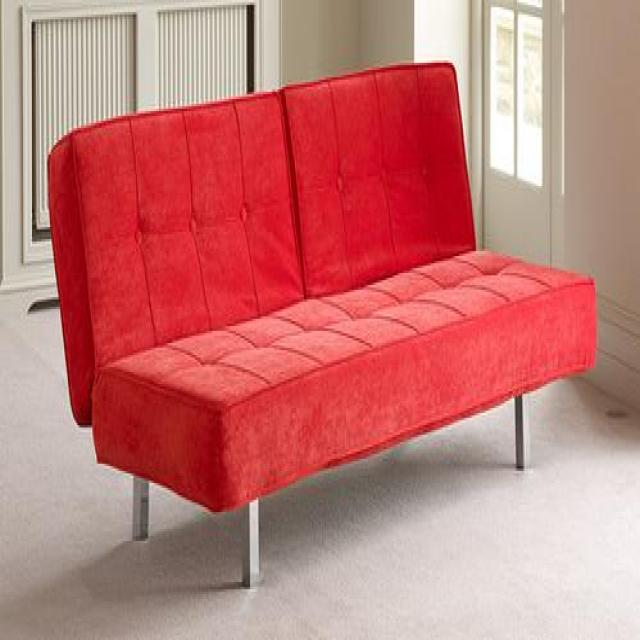sofa: (44, 60, 600, 590)
